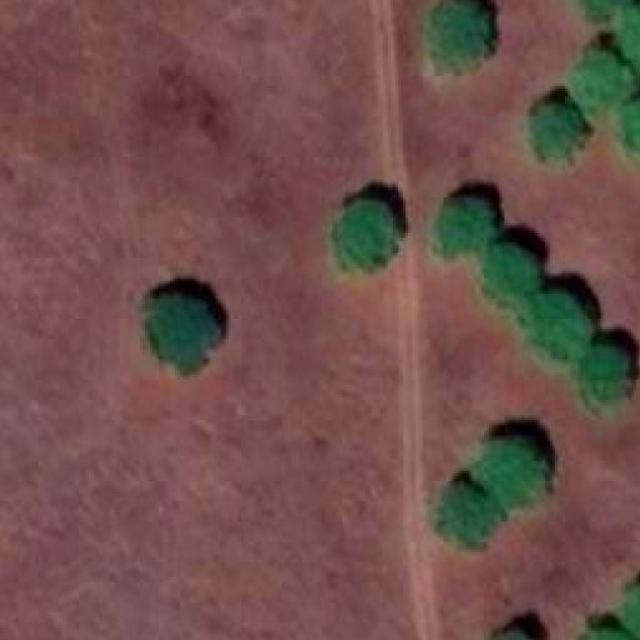Tree: (474, 438, 543, 502), (152, 296, 213, 368), (425, 0, 486, 71), (570, 50, 629, 116), (522, 294, 588, 352), (337, 202, 393, 264), (438, 198, 491, 256), (483, 246, 537, 300), (441, 486, 489, 545), (577, 347, 626, 398), (532, 104, 577, 158), (621, 5, 640, 74), (624, 98, 640, 152), (624, 587, 640, 638)
